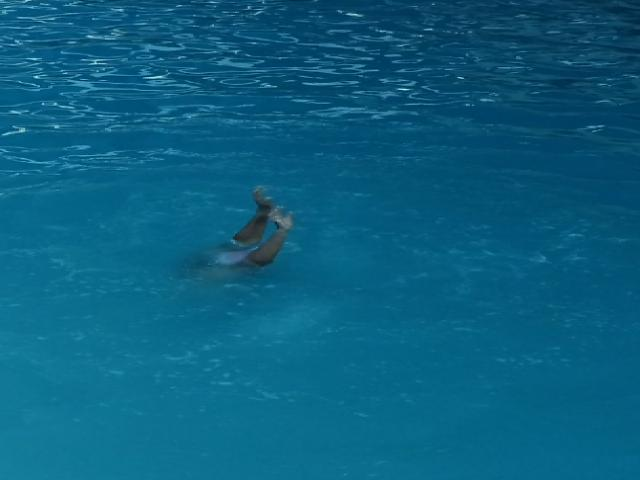drowning: (196, 184, 300, 282)
